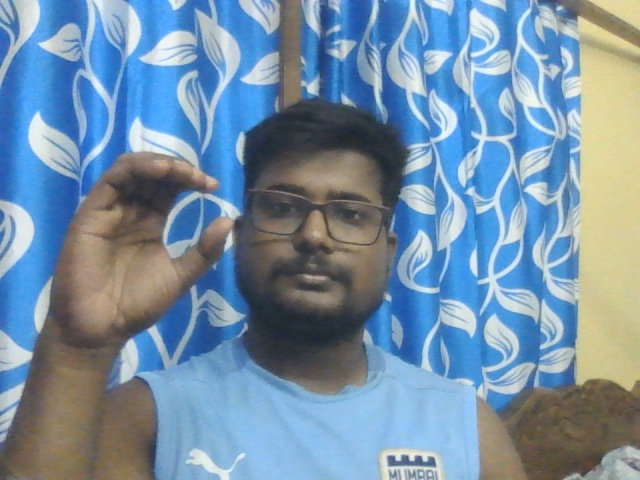C: (52, 153, 231, 343)
